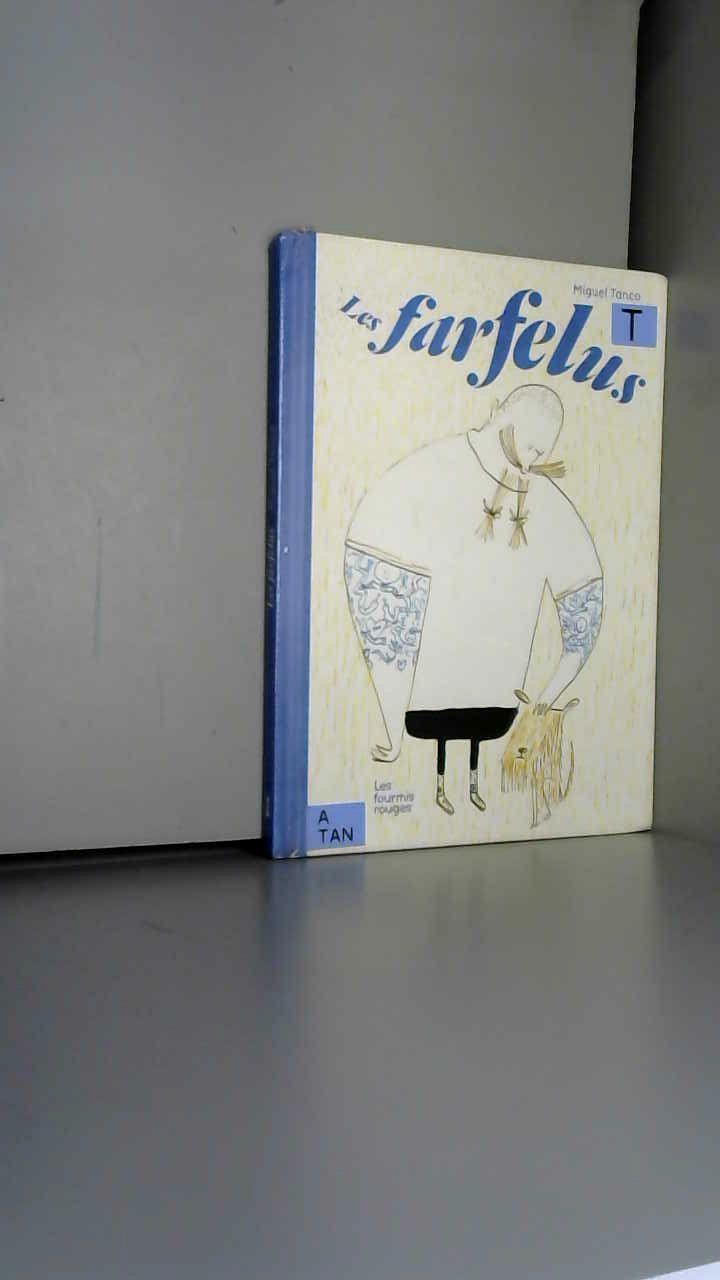book: (230, 200, 715, 896)
